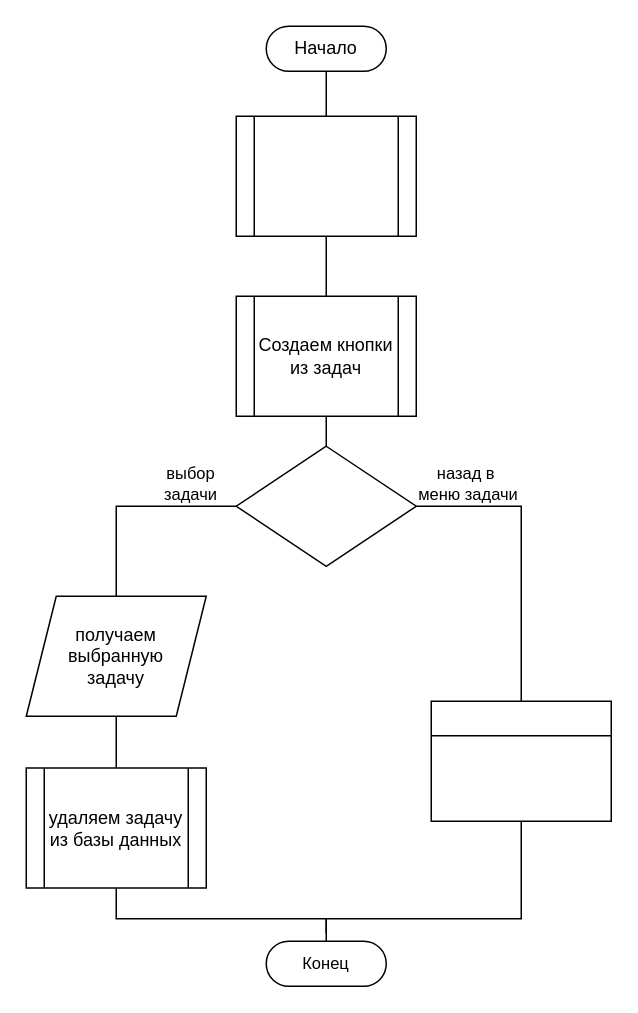
The diagram is 638 pixels wide and 1013 high, and some of its shapes have lost their labels. Each missing label, with the centre of its shape:
TaskMenu: the point at 520,760
Выбор кнопки: the point at 325,505
Получаем задачи пользователя: the point at 325,175
